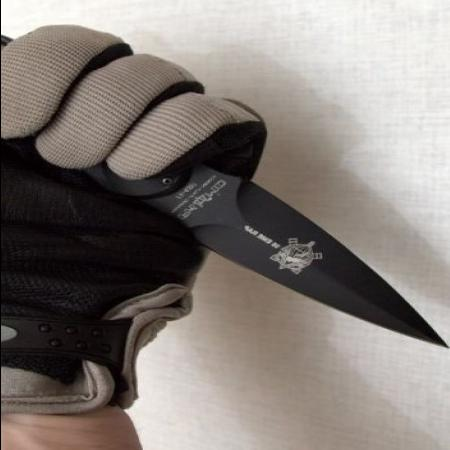long weapon: (29, 44, 449, 351)
